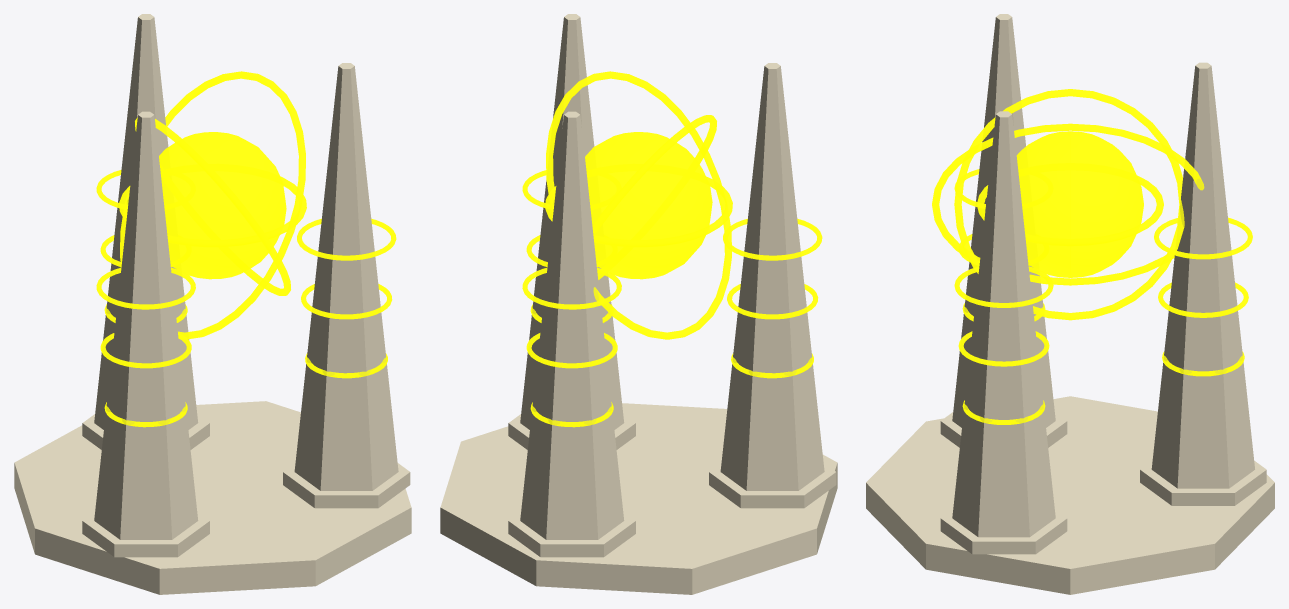
File: solar_sun_pillar.glb
The picture shows the model from 3 angles, left to right: view 1: azimuth 30°, elevation 25°; view 2: azimuth 150°, elevation 25°; view 3: azimuth 270°, elevation 25°; orthographic projection.
Parts seen in each view (by area): view 1: SolarSunPillar; view 2: SolarSunPillar; view 3: SolarSunPillar.
Part boxes in pixels (x1,y1,x2,y2): SolarSunPillar: (14, 14, 411, 594); SolarSunPillar: (440, 14, 837, 594); SolarSunPillar: (866, 14, 1274, 594).
Bounding box in the file's own units: 4 × 4.78 × 4.
